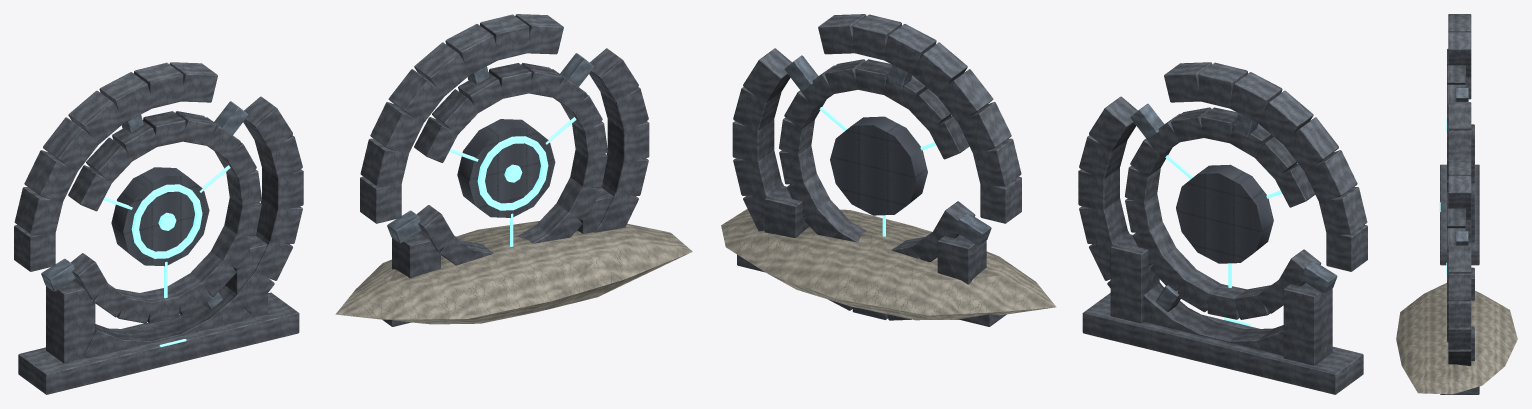
3 renders of one model, left to right at view 1: azimuth 30°, elevation 25°; view 2: azimuth 150°, elevation 25°; view 3: azimuth 270°, elevation 25°, orthographic. The views are drawn at different scales.
Parts seen in each view (by area): view 1: DL012_AncientRelicSet_relic_stone, DL012_AncientRelicSet_sediment, DL012_AncientRelicSet_metal_dark, DL012_AncientRelicSet_emissive_teal, DL012_AncientRelicSet_stone_blue; view 2: DL012_AncientRelicSet_relic_stone, DL012_AncientRelicSet_sediment, DL012_AncientRelicSet_metal_dark, DL012_AncientRelicSet_stone_blue, DL012_AncientRelicSet_emissive_teal; view 3: DL012_AncientRelicSet_relic_stone, DL012_AncientRelicSet_sediment, DL012_AncientRelicSet_stone_blue.
Boxes of the visible parts, box(x1,y1,x2,y2) form: DL012_AncientRelicSet_relic_stone: box(14, 14, 649, 394); DL012_AncientRelicSet_sediment: box(335, 221, 692, 324); DL012_AncientRelicSet_metal_dark: box(111, 119, 555, 266); DL012_AncientRelicSet_emissive_teal: box(103, 117, 576, 347); DL012_AncientRelicSet_stone_blue: box(41, 53, 593, 309); DL012_AncientRelicSet_relic_stone: box(732, 14, 1367, 394); DL012_AncientRelicSet_sediment: box(721, 209, 1056, 320); DL012_AncientRelicSet_metal_dark: box(830, 116, 1273, 263); DL012_AncientRelicSet_stone_blue: box(784, 55, 1337, 311); DL012_AncientRelicSet_emissive_teal: box(819, 107, 1281, 326); DL012_AncientRelicSet_relic_stone: box(1440, 14, 1479, 394); DL012_AncientRelicSet_sediment: box(1396, 283, 1517, 394); DL012_AncientRelicSet_stone_blue: box(1455, 87, 1468, 245).
Size of the model in its own units: 22.35 by 10.7 by 5.23.
5 materials, 4 textured.
